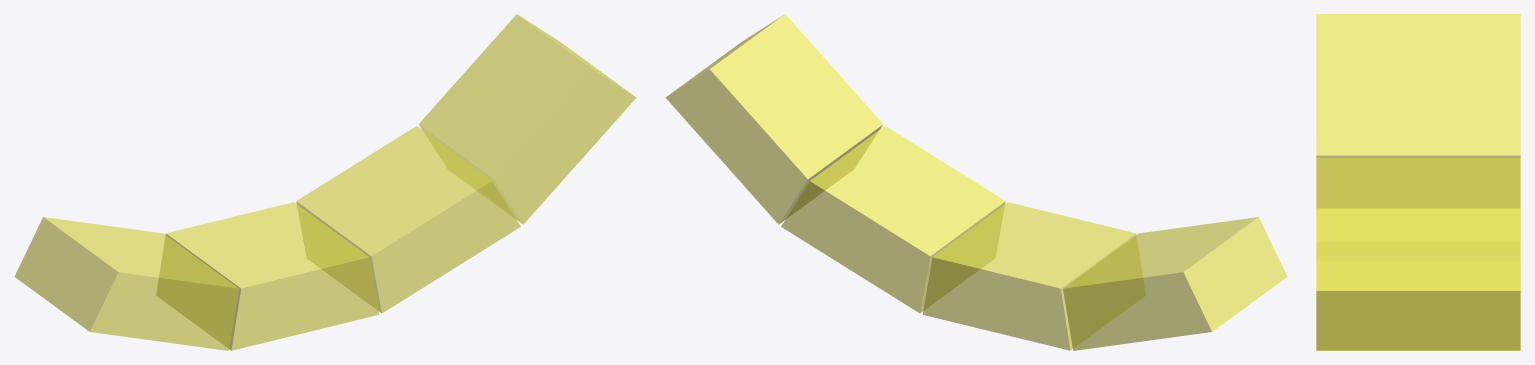
File: PHOS.glb
3 renders of one model, left to right at view 1: azimuth 30°, elevation 25°; view 2: azimuth 150°, elevation 25°; view 3: azimuth 270°, elevation 25°, orthographic. The views are drawn at different scales.
Parts seen in each view (by area): view 1: PEMC_1.005, PEMC_1.011, PEMC_1.003, PEMC_1.009, PEMH_1.001, PEMH_1.003, PEMC_1.001, PEMC_1.007; view 2: PEMC_1.005, PEMC_1.011, PEMC_1.003, PEMC_1.009, PEMH_1.001, PEMH_1.003, PEMC_1.001, PEMC_1.007; view 3: PEMH_1.001, PEMC_1.005, PEMH_1.003, PEMC_1.011, PEMC_1.001, PEMC_1.007, PEMC_1.003.
Part boxes in pixels (x1,y1,x2,y2): PEMC_1.005: [419, 14, 635, 224]; PEMC_1.011: [419, 15, 635, 223]; PEMC_1.003: [296, 126, 520, 312]; PEMC_1.009: [297, 126, 520, 312]; PEMH_1.001: [14, 217, 238, 350]; PEMH_1.003: [15, 217, 238, 350]; PEMC_1.001: [166, 202, 378, 350]; PEMC_1.007: [166, 202, 378, 349]; PEMC_1.005: [666, 14, 882, 224]; PEMC_1.011: [666, 15, 882, 223]; PEMC_1.003: [781, 126, 1005, 312]; PEMC_1.009: [781, 126, 1004, 312]; PEMH_1.001: [1063, 217, 1287, 350]; PEMH_1.003: [1063, 217, 1286, 350]; PEMC_1.001: [923, 202, 1135, 350]; PEMC_1.007: [923, 202, 1135, 349]; PEMH_1.001: [1316, 14, 1520, 157]; PEMC_1.005: [1316, 208, 1520, 350]; PEMH_1.003: [1317, 14, 1519, 157]; PEMC_1.011: [1317, 209, 1519, 349]; PEMC_1.001: [1316, 158, 1520, 208]; PEMC_1.007: [1317, 158, 1519, 207]; PEMC_1.003: [1316, 350, 1520, 350].
Size of the model in its own units: 666 by 225 by 159.
